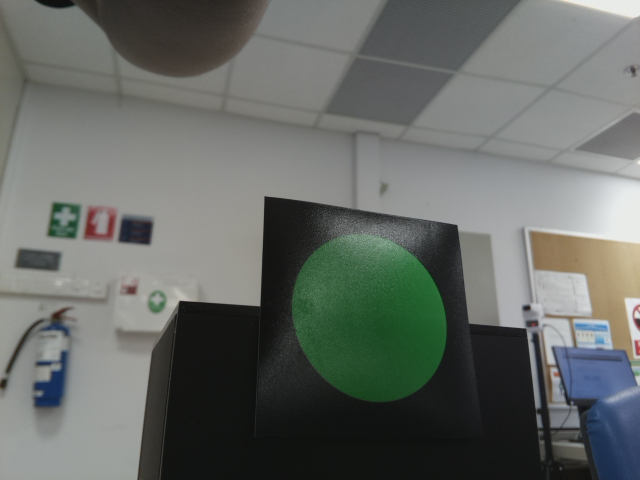go: (289, 224, 461, 410)
